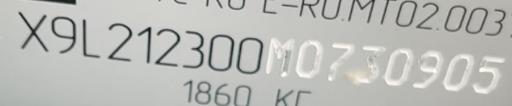letter: (16, 9, 50, 52), (471, 52, 505, 94), (411, 47, 443, 89), (264, 35, 294, 77), (442, 51, 474, 90), (105, 19, 133, 63), (206, 32, 236, 72), (234, 35, 264, 75), (354, 43, 384, 83), (382, 46, 412, 86), (327, 41, 355, 83), (152, 26, 180, 66), (295, 37, 323, 77), (50, 14, 76, 54), (180, 27, 204, 69), (80, 17, 102, 59), (135, 23, 153, 63)
